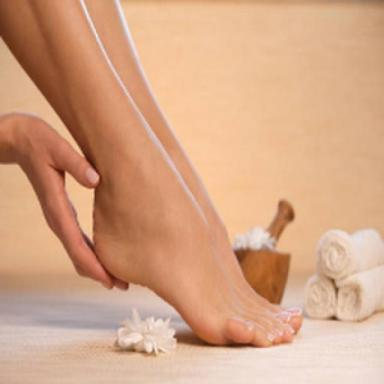normal skin: (0, 0, 301, 346)
